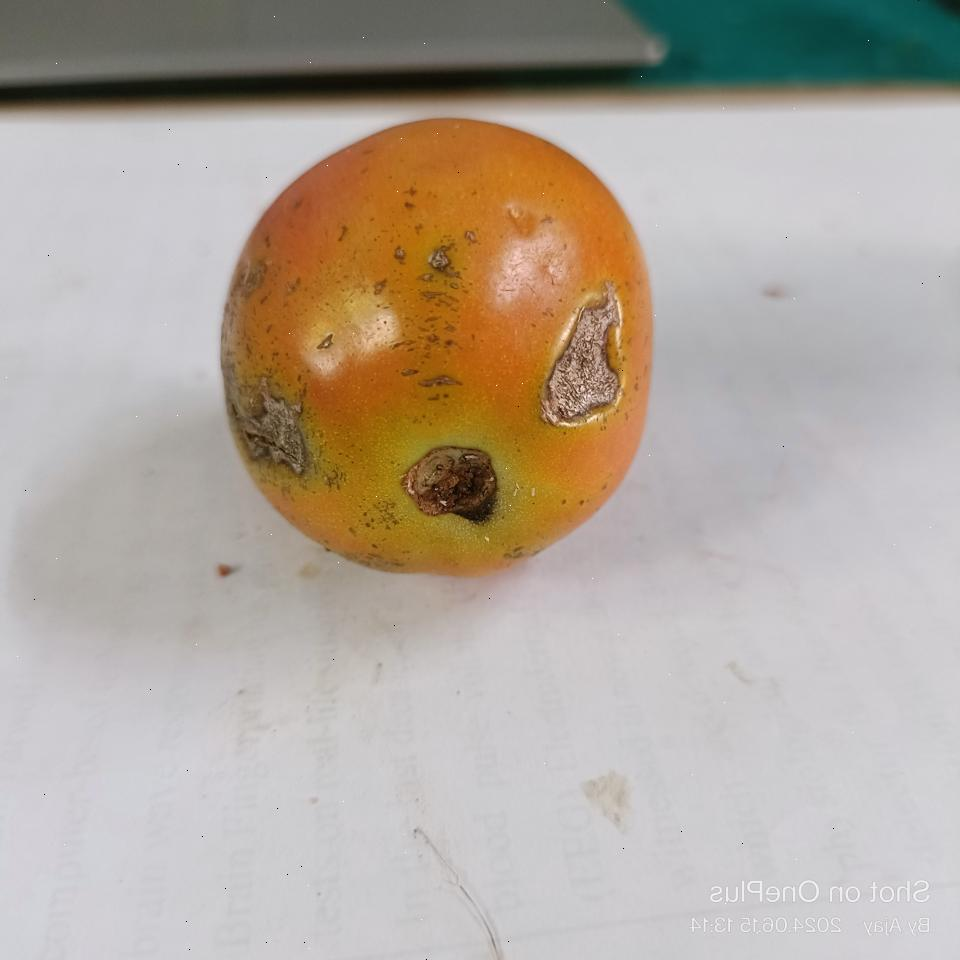Bacterial_Spot: (232, 352, 324, 469), (550, 294, 622, 427), (416, 234, 464, 286)
